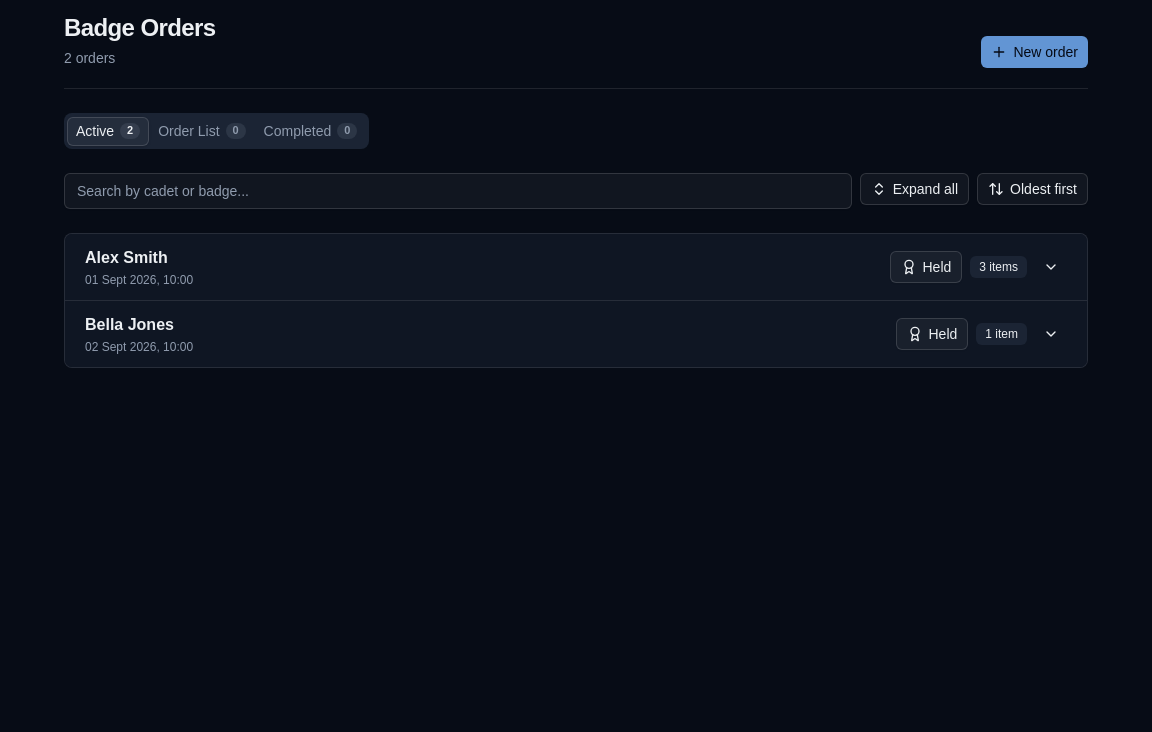
Test case: search › a filtered order still can't be completed while hidden badges are ungiven
Check: the link "Alex Smith" is shown, box [85, 246, 168, 270]
Step 1. Type "leadership" into the field labelled "Search by cadet or badge" → point(458, 191), box [64, 173, 852, 209]
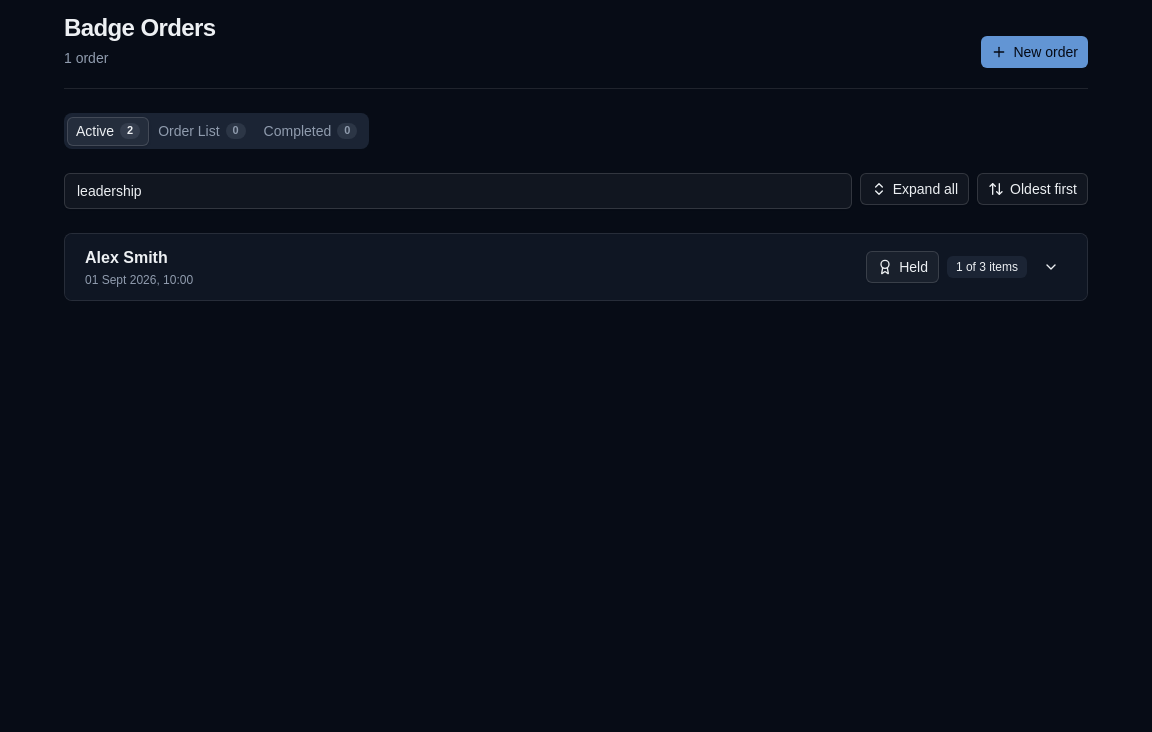
Step 2. Click the button named "Expand order for Alex Smith" → point(1051, 267), box [1035, 251, 1067, 283]
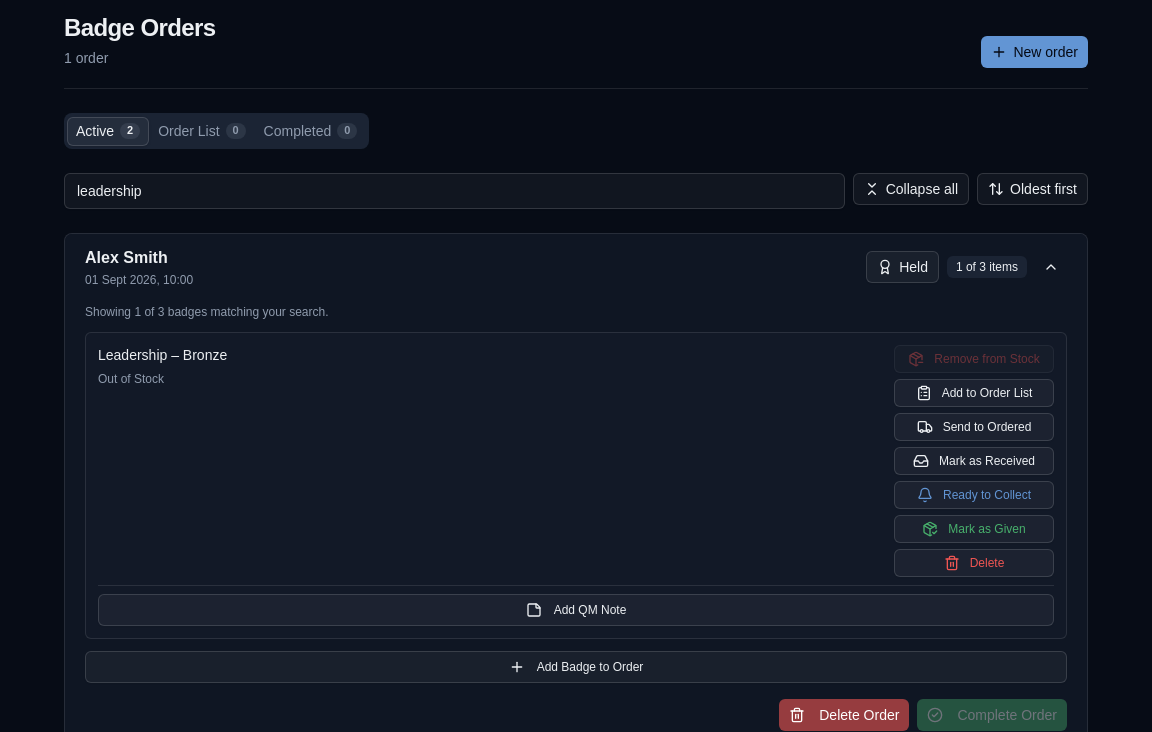
Check: the button "Complete Order" is disabled, box [917, 699, 1067, 731]
